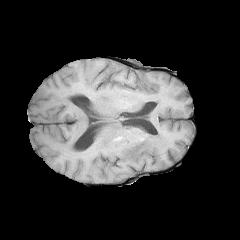glioma: (95, 127, 171, 180)
